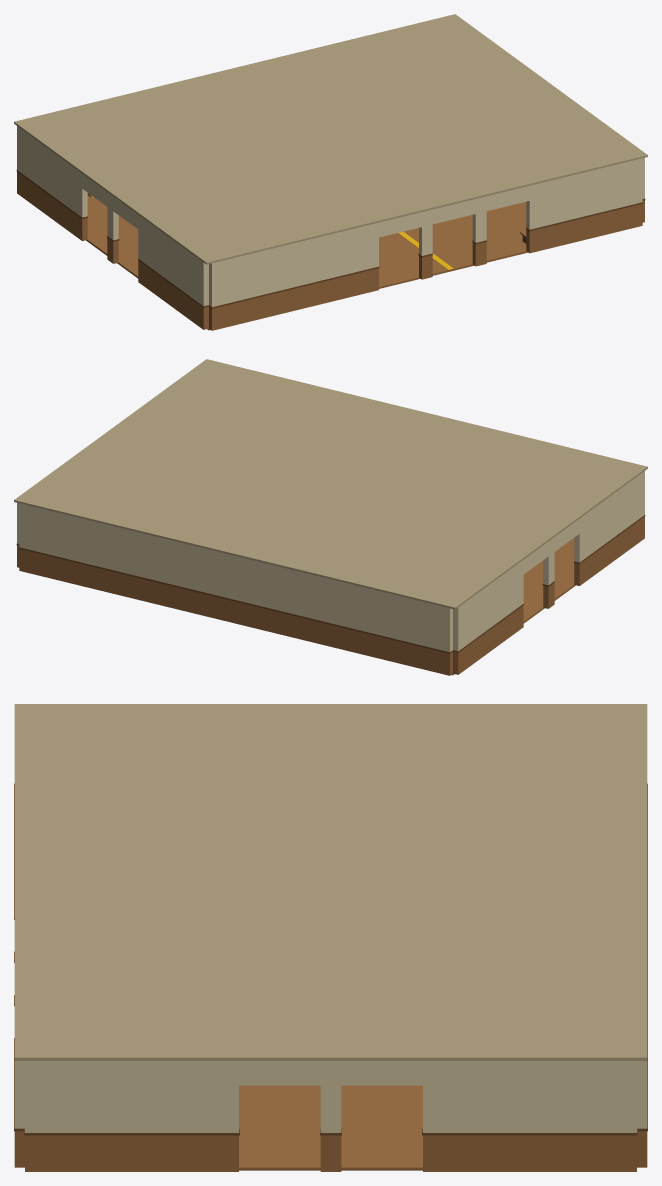
Rendered from room_zoology_welcome_center.glb.
The picture shows the model from 3 angles, top to bottom: view 1: azimuth 30°, elevation 25°; view 2: azimuth 150°, elevation 25°; view 3: azimuth 270°, elevation 25°; orthographic projection. The views are drawn at different scales.
Visible parts, largest first — view 1: room_zoology_welcome_center; view 2: room_zoology_welcome_center; view 3: room_zoology_welcome_center.
Boxes of the visible parts, bbox=[...] form: room_zoology_welcome_center: bbox=[14, 14, 647, 330]; room_zoology_welcome_center: bbox=[14, 359, 647, 675]; room_zoology_welcome_center: bbox=[14, 704, 647, 1171].
Size of the model in its own units: 24.62 by 3.8 by 18.64.
Materials: 1 (1 with a texture image).
